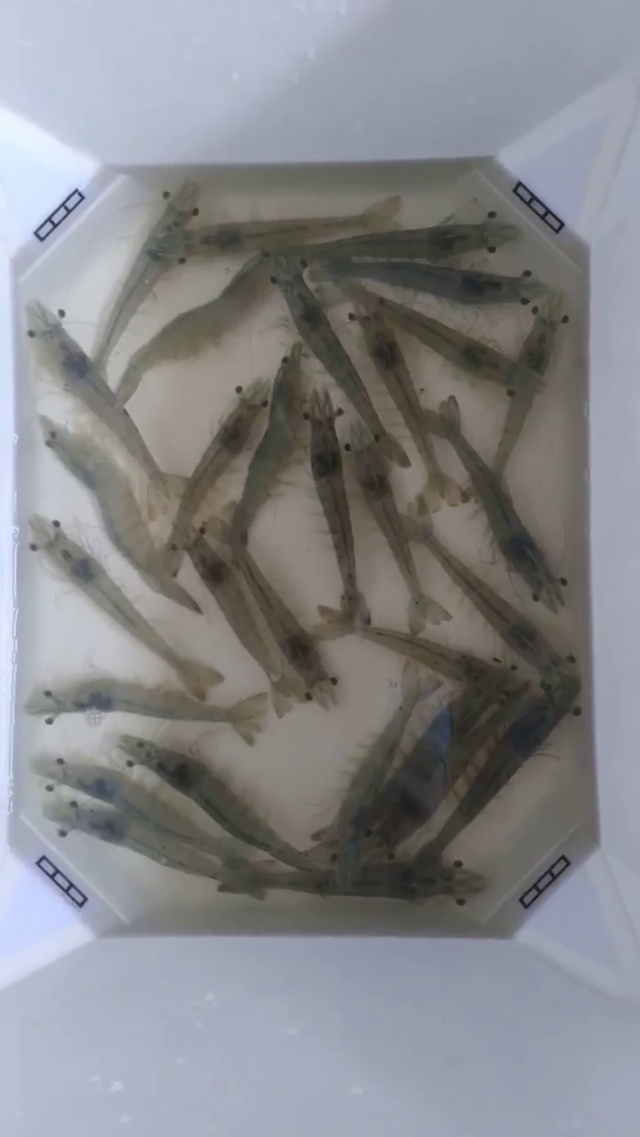shrimp: (560, 560, 639, 851), (71, 442, 200, 611), (288, 287, 408, 467), (456, 568, 579, 735), (0, 192, 91, 406), (0, 315, 86, 541), (69, 636, 215, 764), (398, 774, 512, 934), (8, 772, 122, 931), (170, 495, 264, 668), (428, 396, 522, 568), (357, 436, 458, 596), (164, 172, 267, 326), (30, 514, 140, 638), (508, 486, 586, 651), (508, 233, 588, 390), (325, 355, 409, 495), (295, 753, 378, 894), (15, 680, 105, 810), (442, 157, 531, 278), (189, 379, 270, 486), (203, 219, 335, 282), (312, 570, 374, 681), (0, 579, 19, 812)
